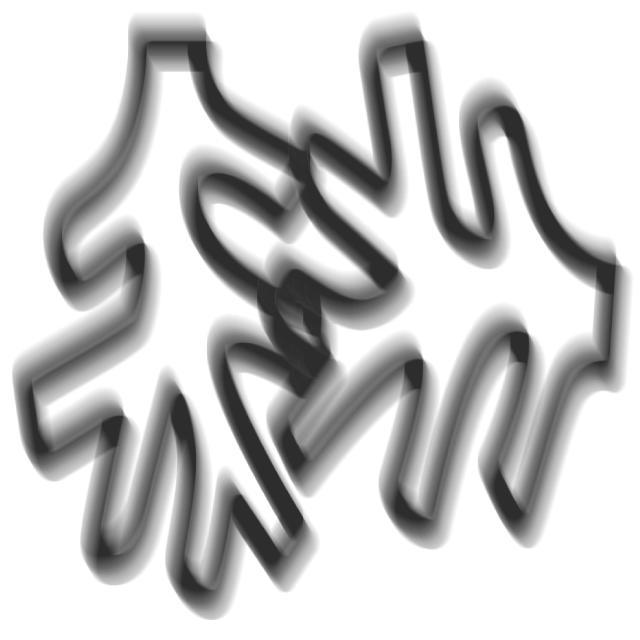coral: (254, 9, 638, 560), (6, 11, 341, 628)
